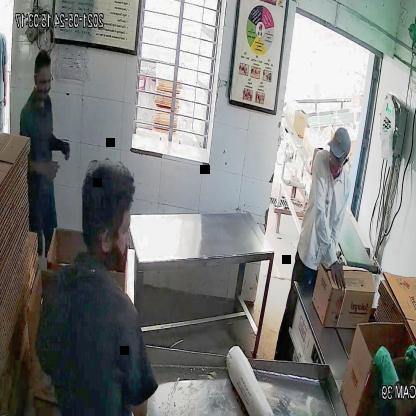goggles: (34, 75, 54, 92)
